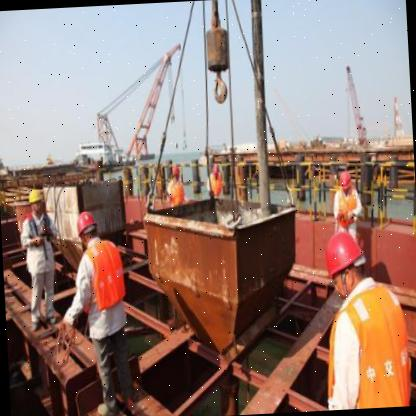capacete: (320, 224, 368, 284), (74, 208, 100, 240), (27, 184, 44, 206), (338, 170, 352, 192), (168, 162, 182, 183)
